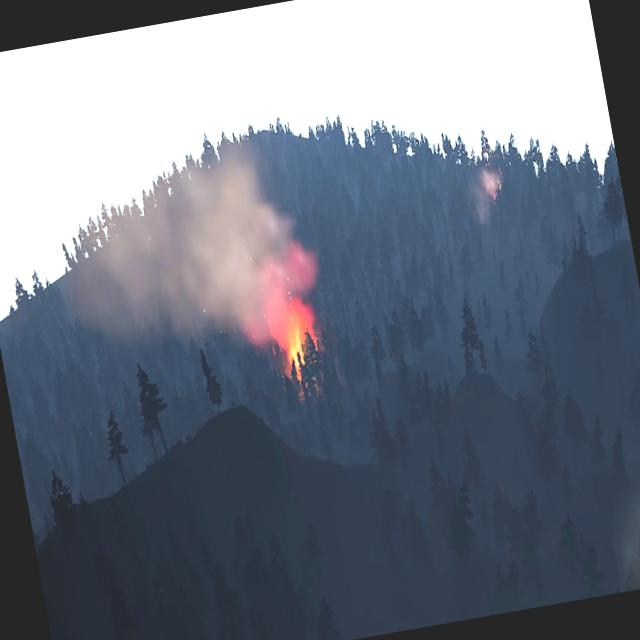fire: (270, 300, 328, 392)
smoke: (48, 127, 328, 372), (462, 164, 507, 228)
